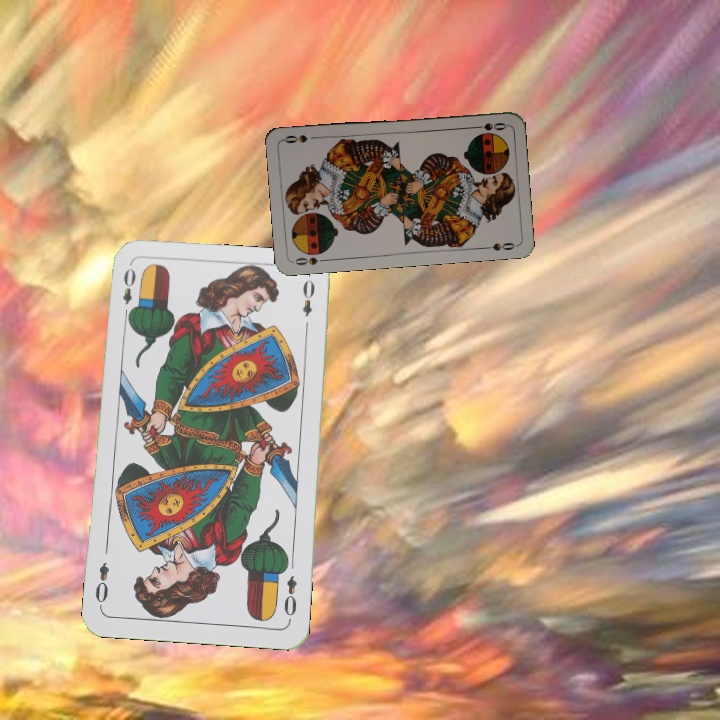EO: (118, 264, 138, 322), (279, 572, 300, 619)
SO: (468, 118, 509, 133), (289, 253, 330, 268)
